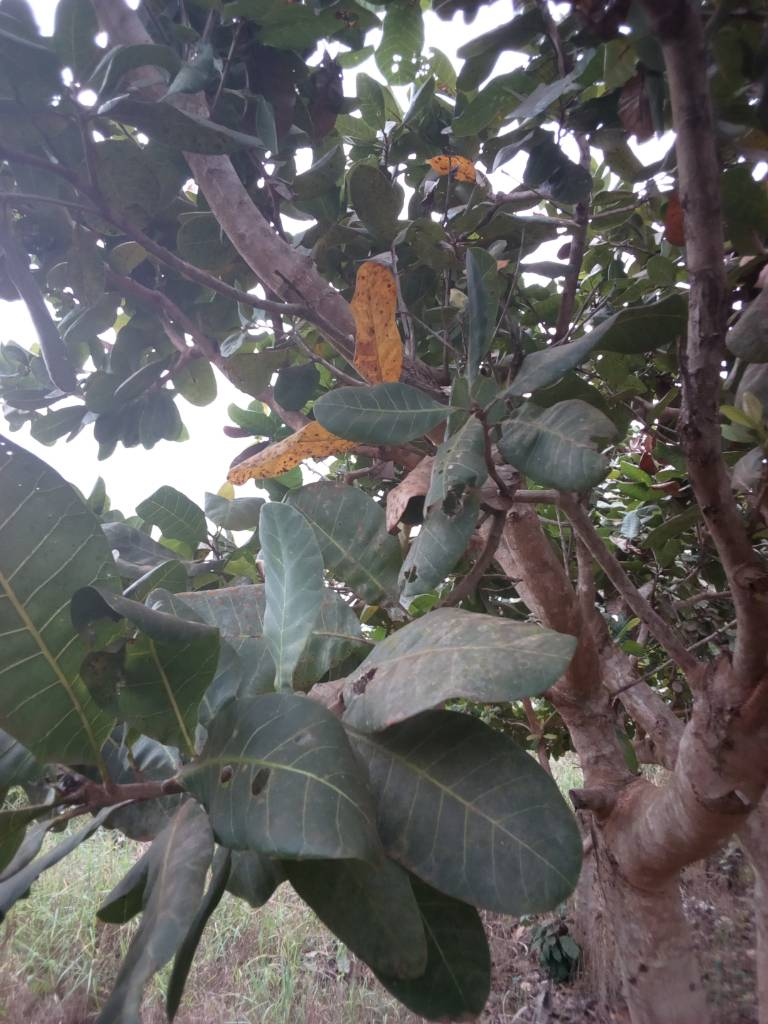Oidium: (341, 606, 582, 737)
